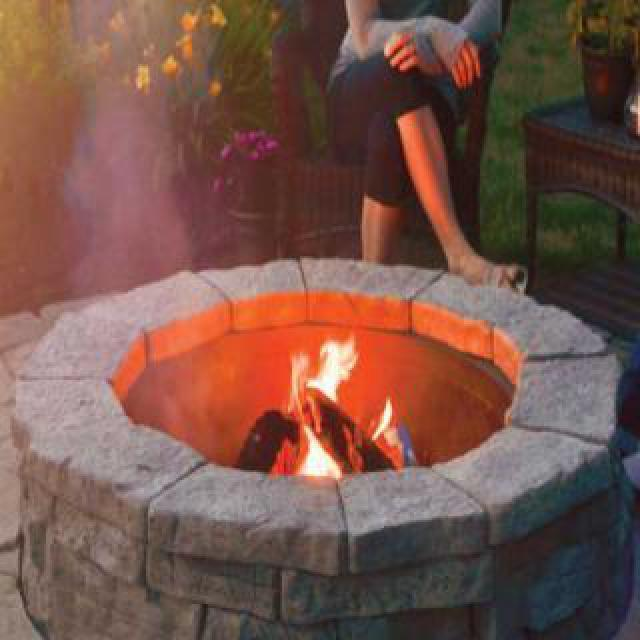smoke: (50, 70, 204, 418)
zfire: (264, 332, 370, 480)
